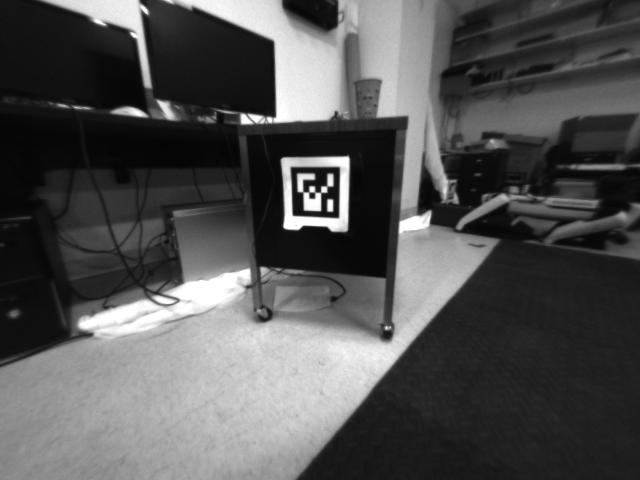coffee_cup: (352, 77, 383, 117)
